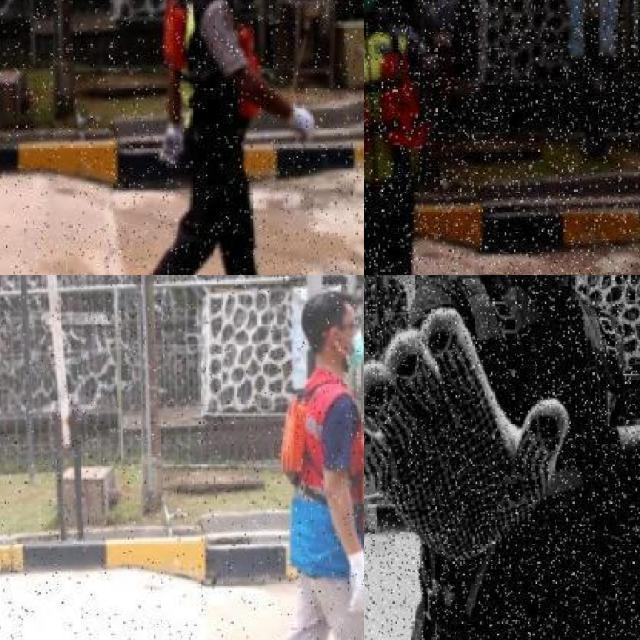apron: (364, 306, 573, 577), (420, 0, 463, 47), (281, 98, 318, 150), (343, 551, 364, 612), (158, 121, 183, 170)
